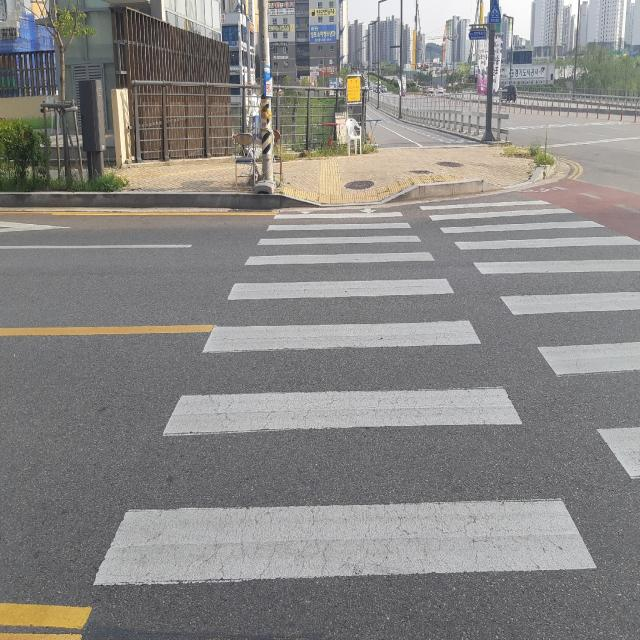횡단보도: (91, 198, 640, 590)
